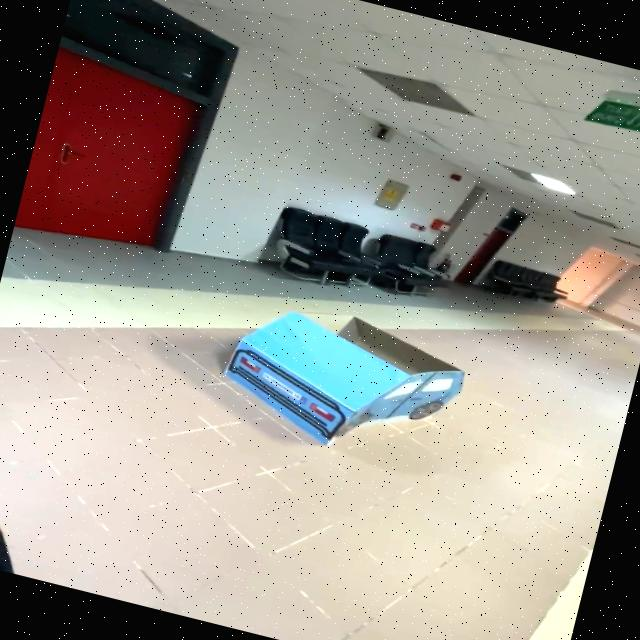blue_car: (202, 279, 503, 485)
